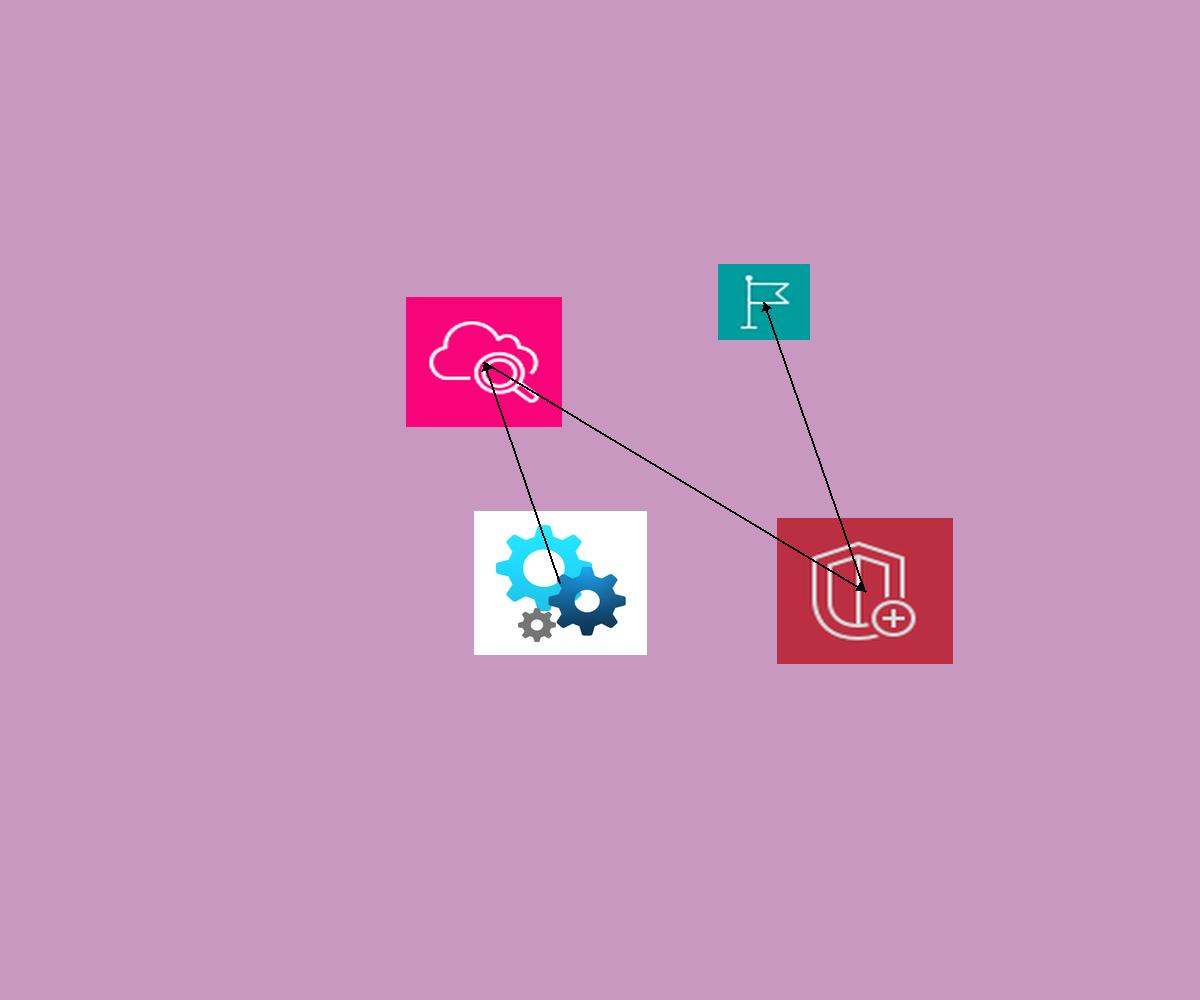AWS-CloudWatch: (406, 297, 562, 427)
AWS-Region: (718, 264, 810, 340)
AWS-Shield: (777, 518, 953, 664)
Azure_api: (474, 511, 647, 655)
